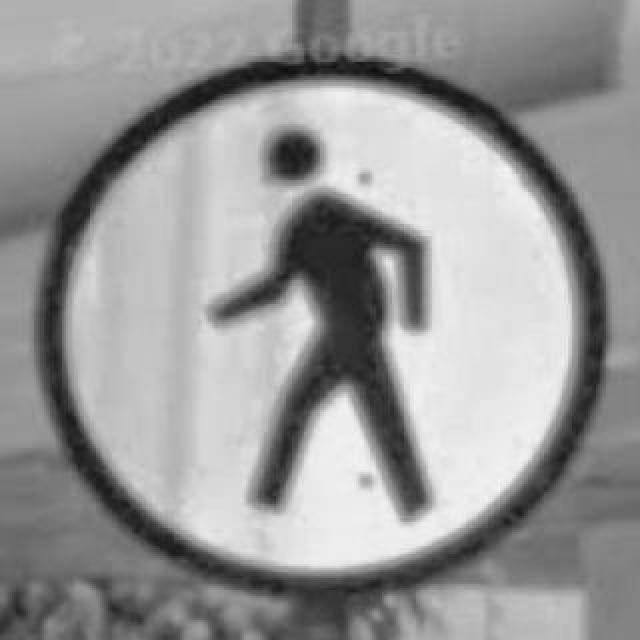pedestrian crossing: (30, 48, 606, 596)
